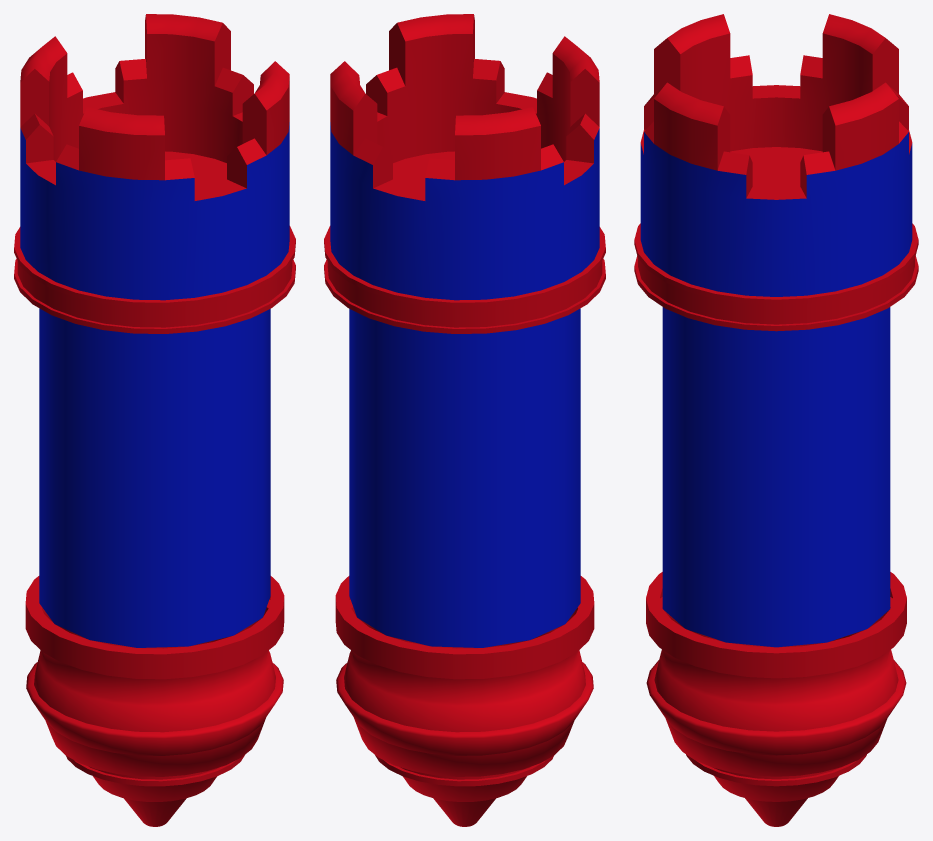
The model's file is Tower_mini (1).fbx.
3 views of the same model, side by side, from view 1: azimuth 30°, elevation 25°; view 2: azimuth 150°, elevation 25°; view 3: azimuth 270°, elevation 25° (orthographic).
Parts seen in each view (by area): view 1: Group_2.000; view 2: Group_2.000; view 3: Group_2.000.
Part boxes in pixels (box(x1,y1,x2,y2)): Group_2.000: box(14, 14, 295, 826); Group_2.000: box(324, 14, 605, 826); Group_2.000: box(634, 14, 918, 826).
Size of the model in its own units: 279 by 827 by 279.
